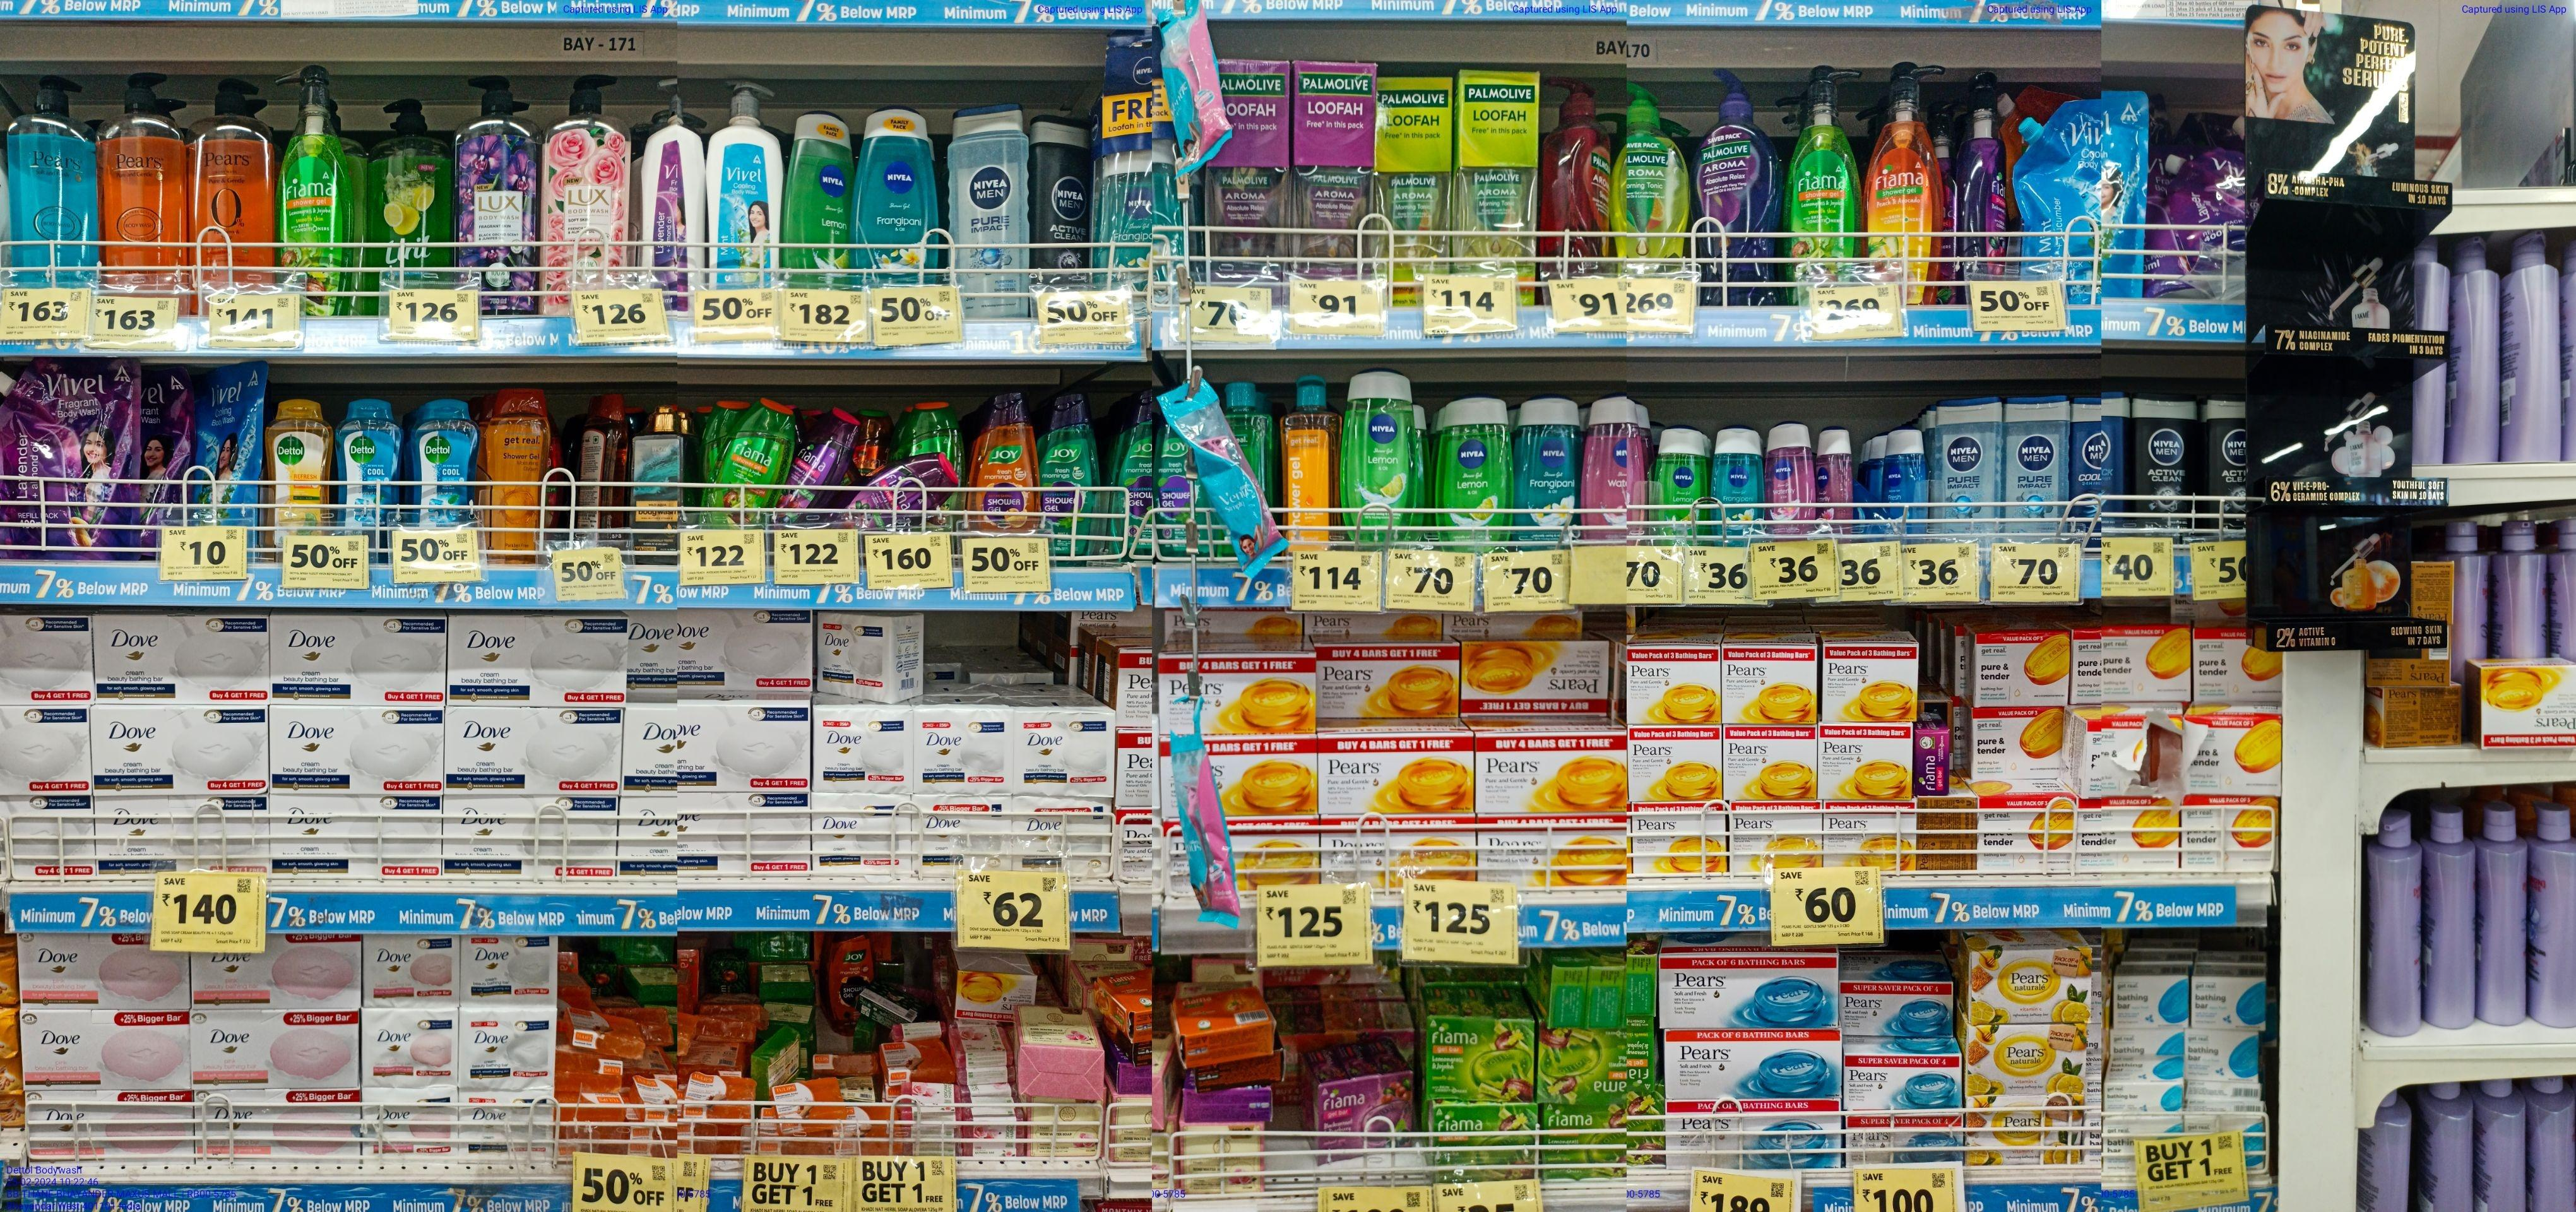Dettol_Bodywash_Cool: (340, 401, 407, 529), (411, 404, 476, 526)
Dettol_Bodywash_Refresh: (266, 396, 329, 544)
Get_Real_Shower_Gel_Moisturising_Glycerin_300ML: (488, 384, 550, 558)
Joy_Shower_Gel_Mandarin_and_Lemongrass_250ML: (966, 391, 1042, 534)
Joy_Shower_Gel_Mint_and_Eucalyptus_250ML: (1042, 396, 1101, 562)
Nivea_Shower_Gel_Frangipani_and_Oil_250ML: (1520, 397, 1579, 540)
Nivea_Shower_Gel_Lemon_and_Oil_250ML: (1339, 368, 1411, 544), (1442, 394, 1516, 552)
